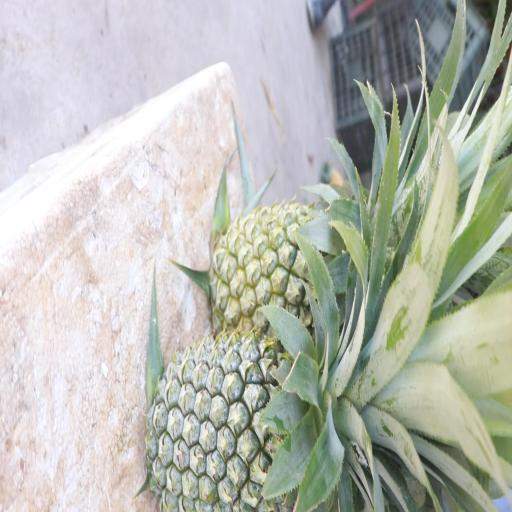Pineapple - v8 v1: (210, 194, 383, 345)
